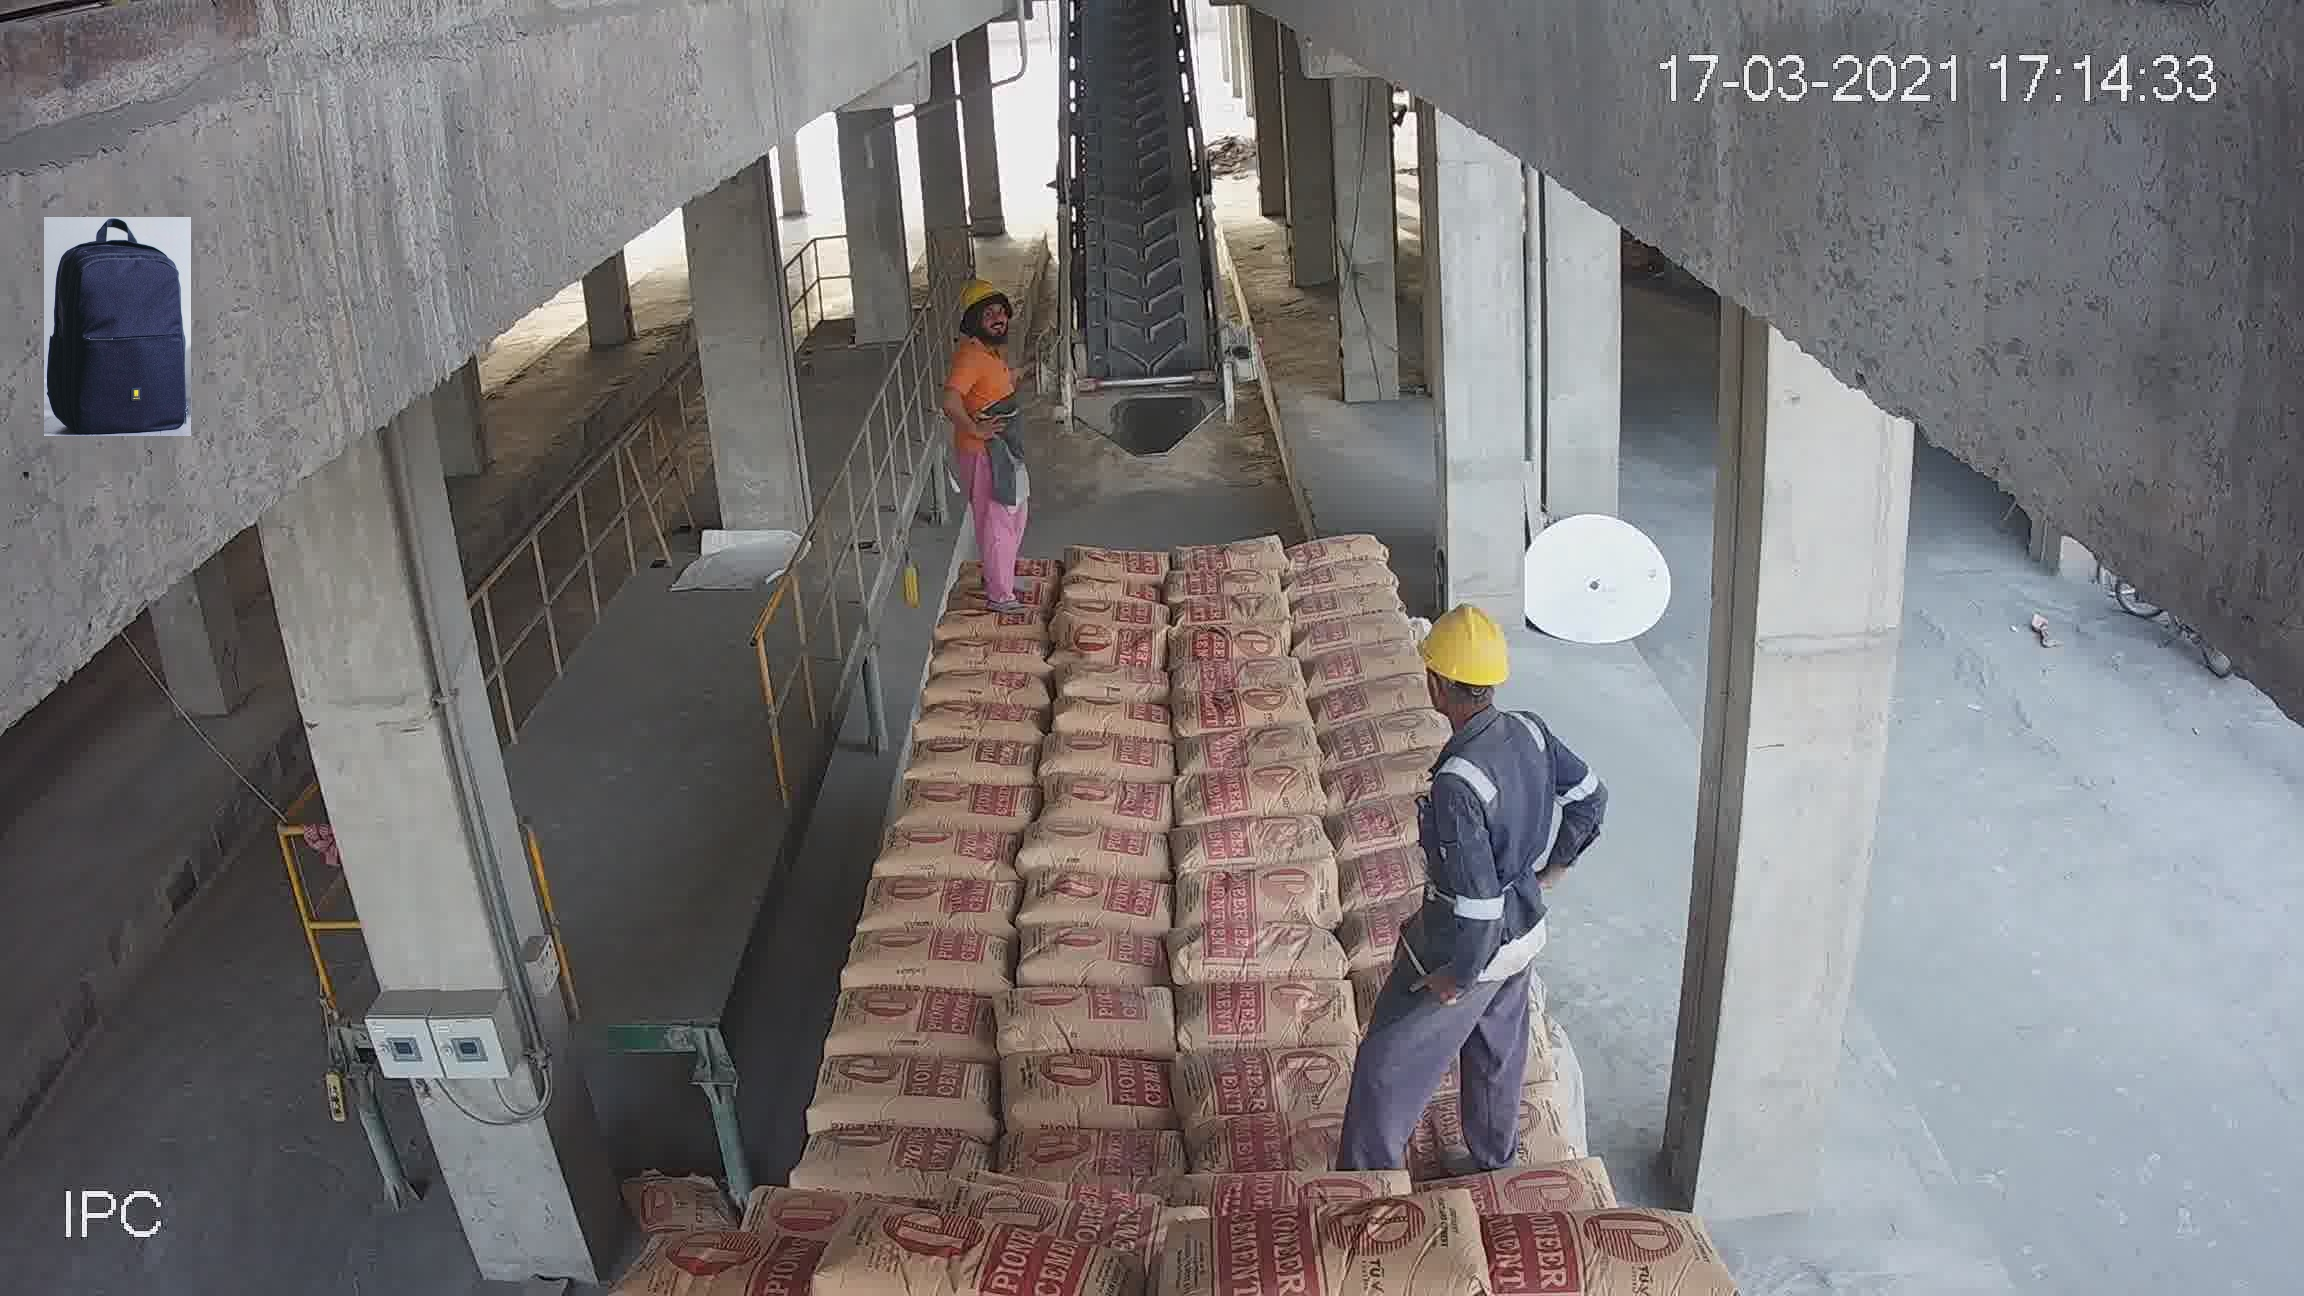bag_h: (1163, 1192, 1483, 1287), (1510, 1207, 1777, 1296), (810, 1222, 1119, 1294), (1168, 1049, 1367, 1136), (802, 1055, 1003, 1135), (1176, 984, 1367, 1060), (642, 1223, 847, 1294), (1000, 986, 1187, 1062), (828, 983, 1005, 1060), (786, 1131, 999, 1195), (1006, 1060, 1177, 1138), (855, 873, 1022, 945), (1176, 924, 1353, 991), (995, 1125, 1185, 1187), (839, 927, 1014, 994), (1177, 864, 1337, 937), (1434, 1146, 1605, 1207), (1019, 872, 1185, 934), (1182, 758, 1332, 826), (1022, 817, 1165, 886), (1180, 812, 1326, 877), (1013, 934, 1174, 991), (892, 782, 1041, 836), (1048, 774, 1180, 832), (872, 831, 1019, 883), (1166, 650, 1312, 703), (908, 699, 1055, 748), (1176, 685, 1320, 734), (907, 737, 1041, 790), (1188, 725, 1328, 774), (1324, 744, 1442, 798), (1328, 707, 1440, 763), (1063, 612, 1163, 673), (1048, 741, 1176, 786), (908, 665, 1038, 707), (1060, 657, 1169, 706), (1051, 699, 1161, 745), (1171, 619, 1290, 661), (927, 638, 1059, 676), (1179, 541, 1296, 581), (1294, 581, 1402, 623), (1166, 590, 1291, 627), (1305, 641, 1412, 684), (1305, 619, 1419, 658), (1065, 540, 1169, 582), (1337, 850, 1415, 907), (1285, 524, 1388, 567), (1332, 802, 1408, 859), (1169, 565, 1287, 601), (1057, 598, 1174, 633), (1052, 571, 1165, 604), (1313, 684, 1400, 726), (1294, 559, 1399, 593), (934, 601, 1052, 631)
belt: (1051, 6, 1226, 415)
